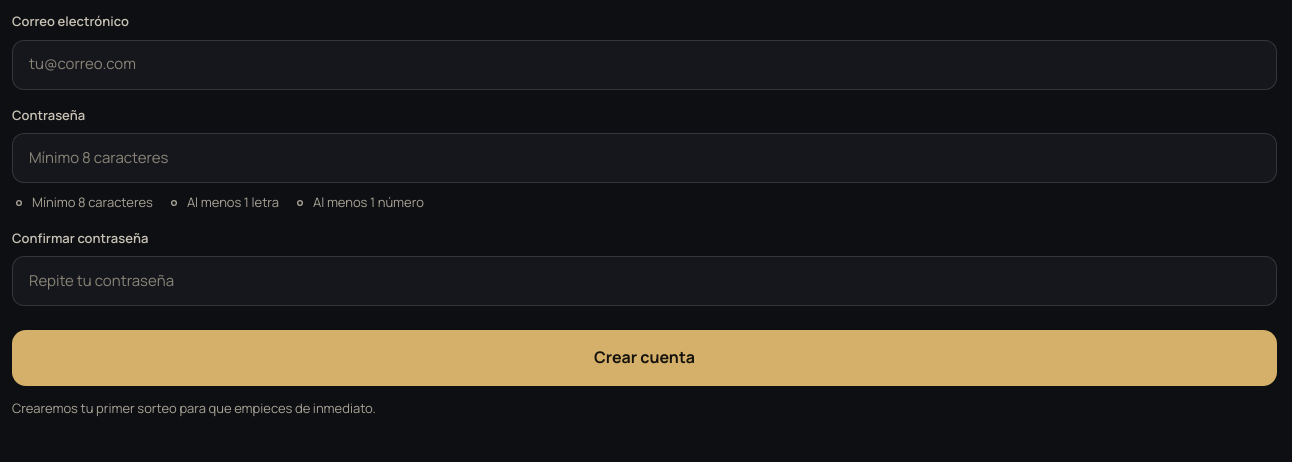
Test: SignUpForm (HU-06) › muestra los requisitos en tiempo real y no envía si las contraseñas no coinciden
Type "ana@correo.com" into the field labelled "Correo electrónico". click: (644, 64)
box: [12,40,1277,90]
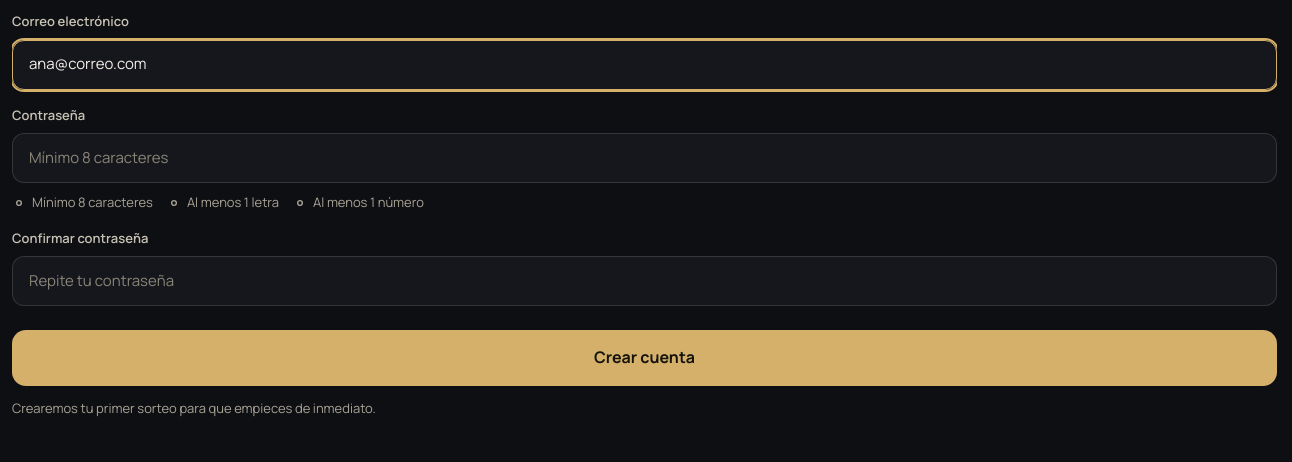
Type "abc" into the password field labelled "Contraseña". click: (644, 158)
box: [12,133,1277,183]
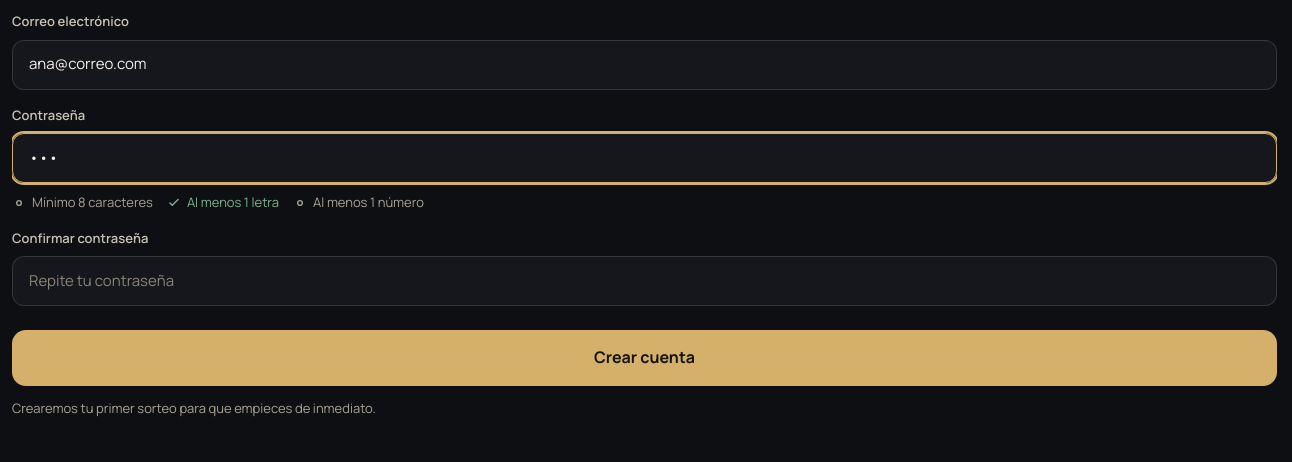
Type "defg1" into the password field labelled "Contraseña". click: (644, 158)
box: [12,133,1277,183]
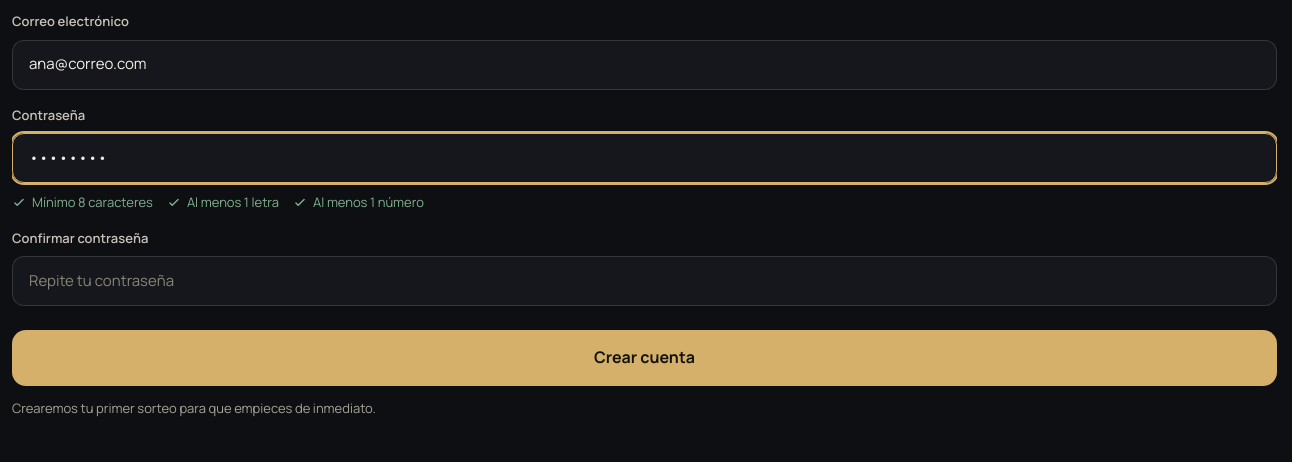
Type "otra1234" into the password field labelled "Confirmar contraseña". click: (644, 281)
box: [12,256,1277,306]
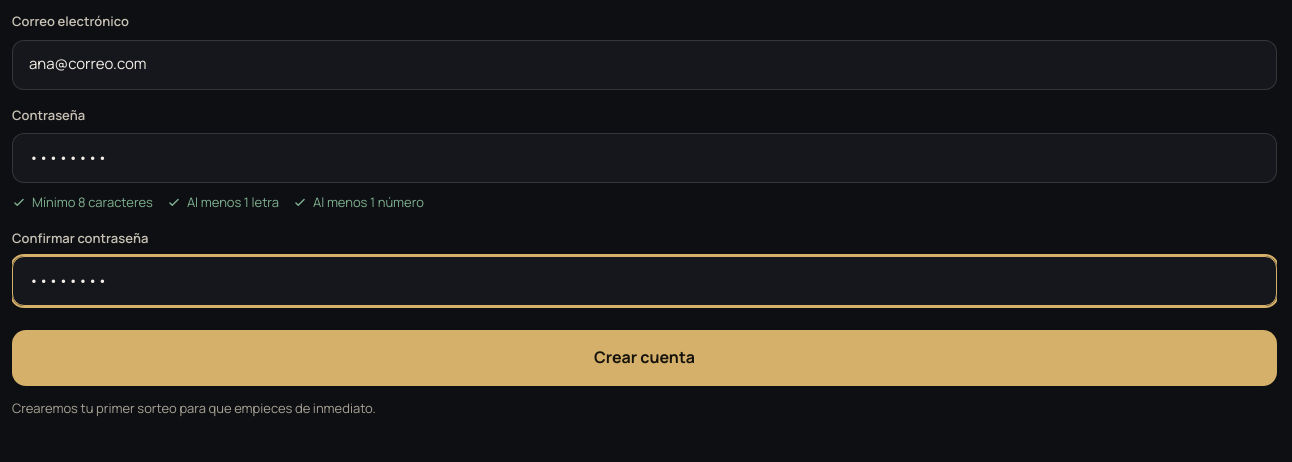
Click the button "Crear cuenta". click: (644, 358)
box: [12,330,1277,386]
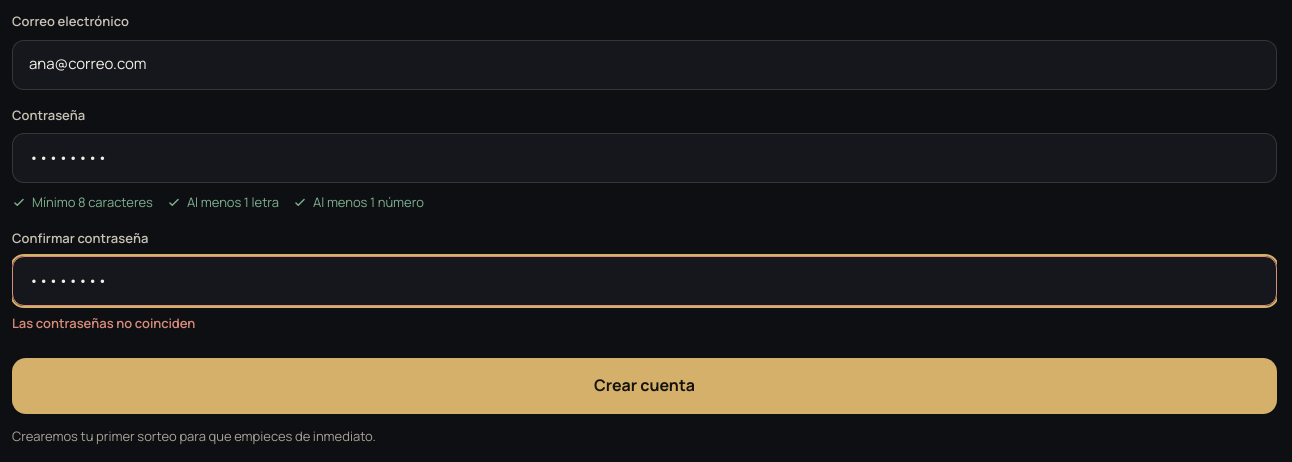
Now the text "Las contraseñas no coinciden" is shown, box [12,314,195,332]
